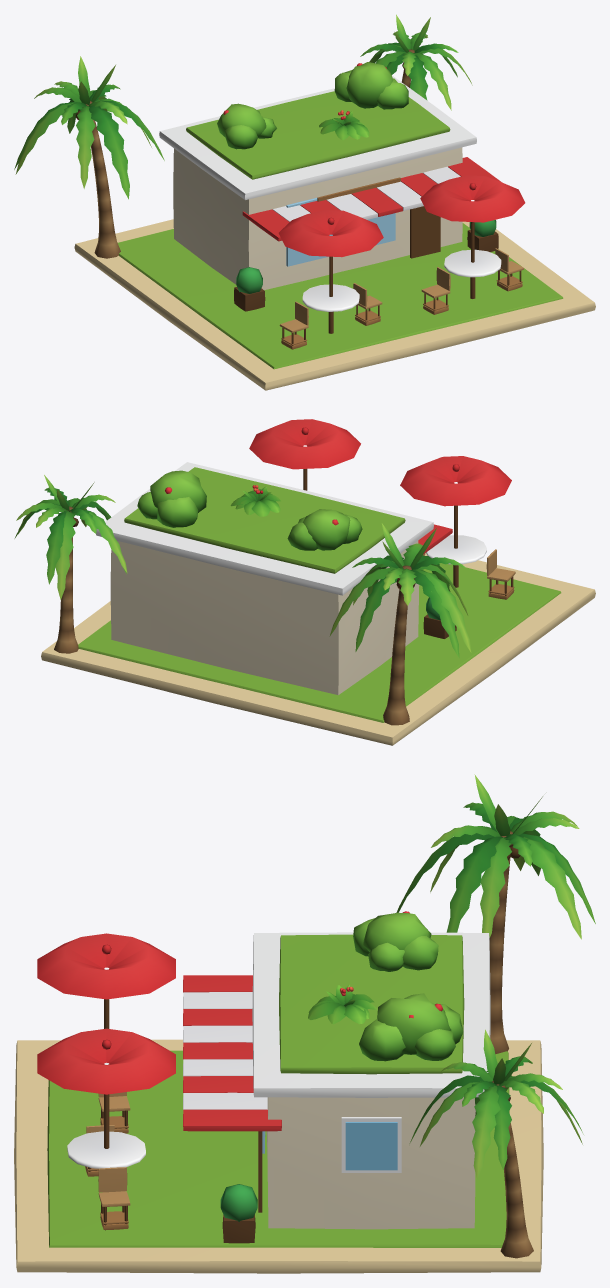
Rendered from Cafe.obj.
3 views of the same model, one above another, from view 1: azimuth 30°, elevation 25°; view 2: azimuth 150°, elevation 25°; view 3: azimuth 270°, elevation 25° (orthographic). The views are drawn at different scales.
Visible parts, largest first — view 1: Cafe; view 2: Cafe; view 3: Cafe.
Part boxes in pixels (x1=…): Cafe: x1=14, y1=14, x2=595, y2=390; Cafe: x1=14, y1=419, x2=595, y2=745; Cafe: x1=14, y1=774, x2=595, y2=1273.
Size of the model in its own units: 5.3 by 2.23 by 4.39.
Materials: 1 (1 with a texture image).
